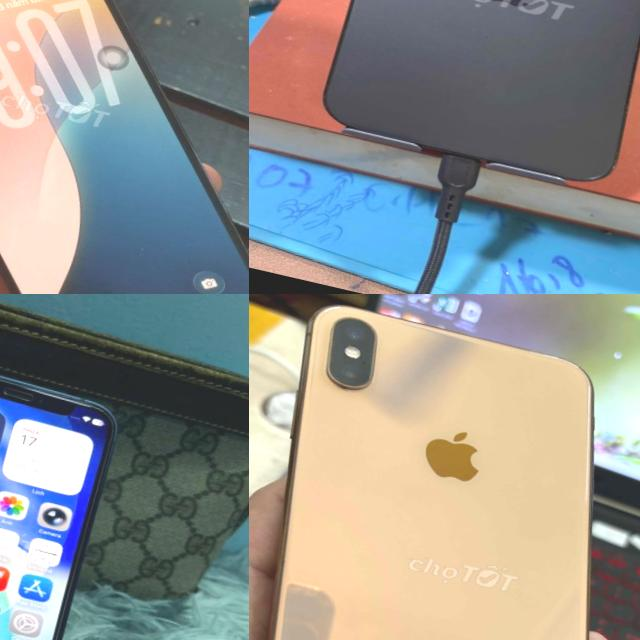gen_12_13: (0, 0, 249, 294), (0, 341, 123, 640)
gen_14: (303, 0, 640, 196)
gen_x_xs: (249, 294, 640, 640)
